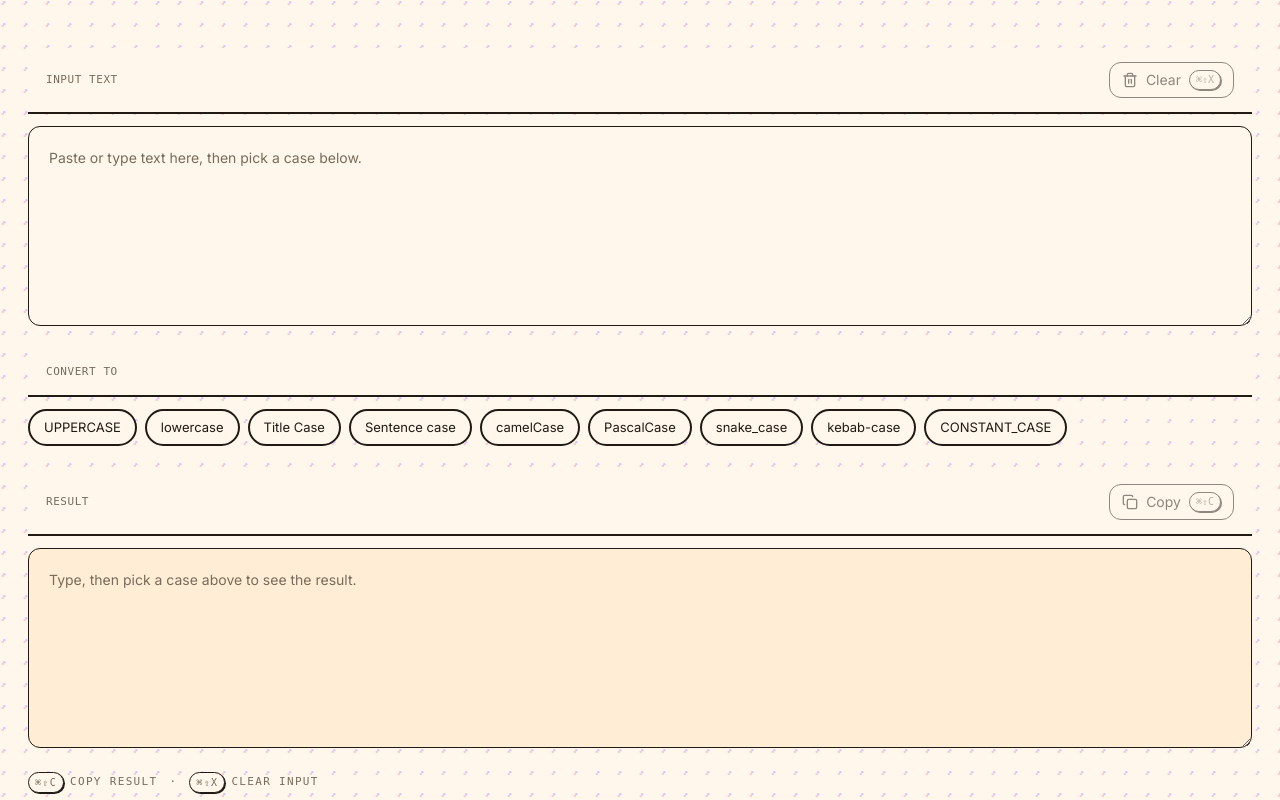
Test: CaseConverterRoute › UPPERCASE chip converts correctly
Type "hello world" into the text box with placeholder "Paste or type text here, then pick a case below." at (640, 226), box [28,126,1252,326]
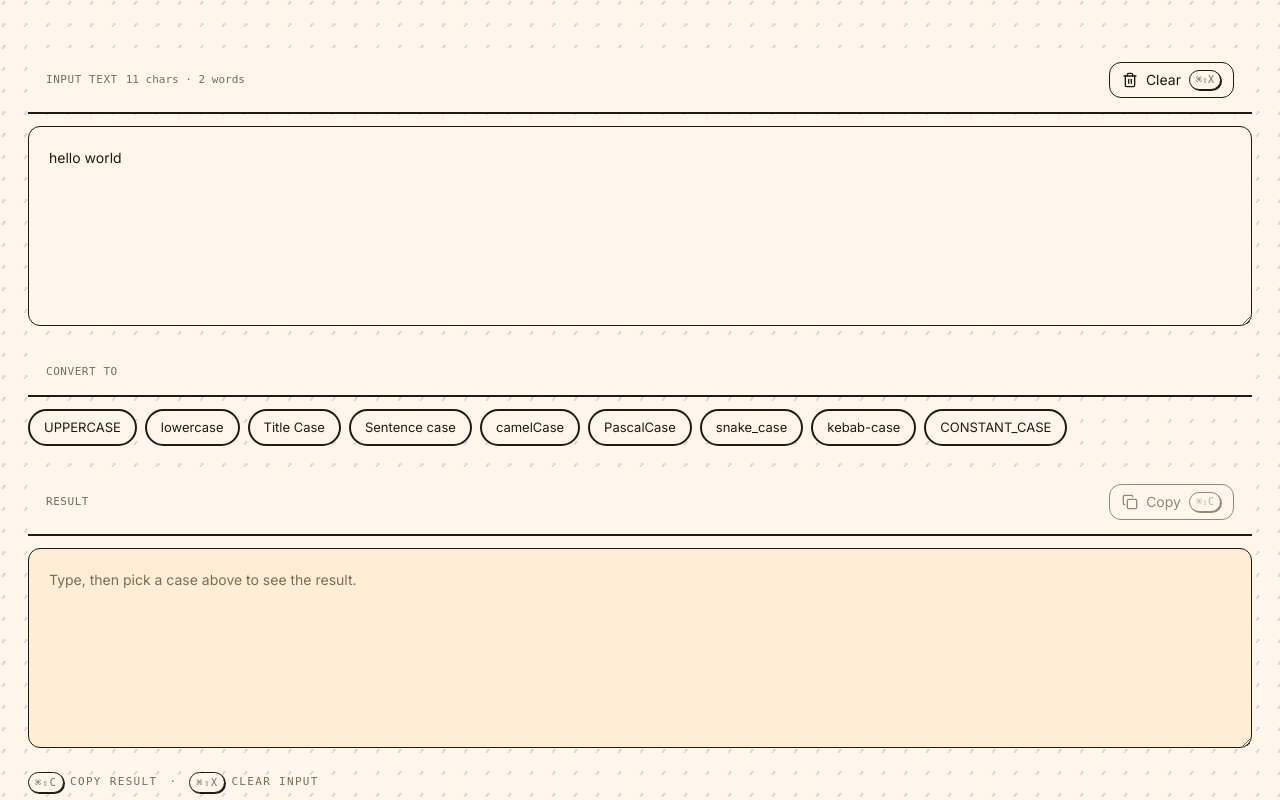
Click the button "UPPERCASE" at (82, 427), box [28,408,137,446]
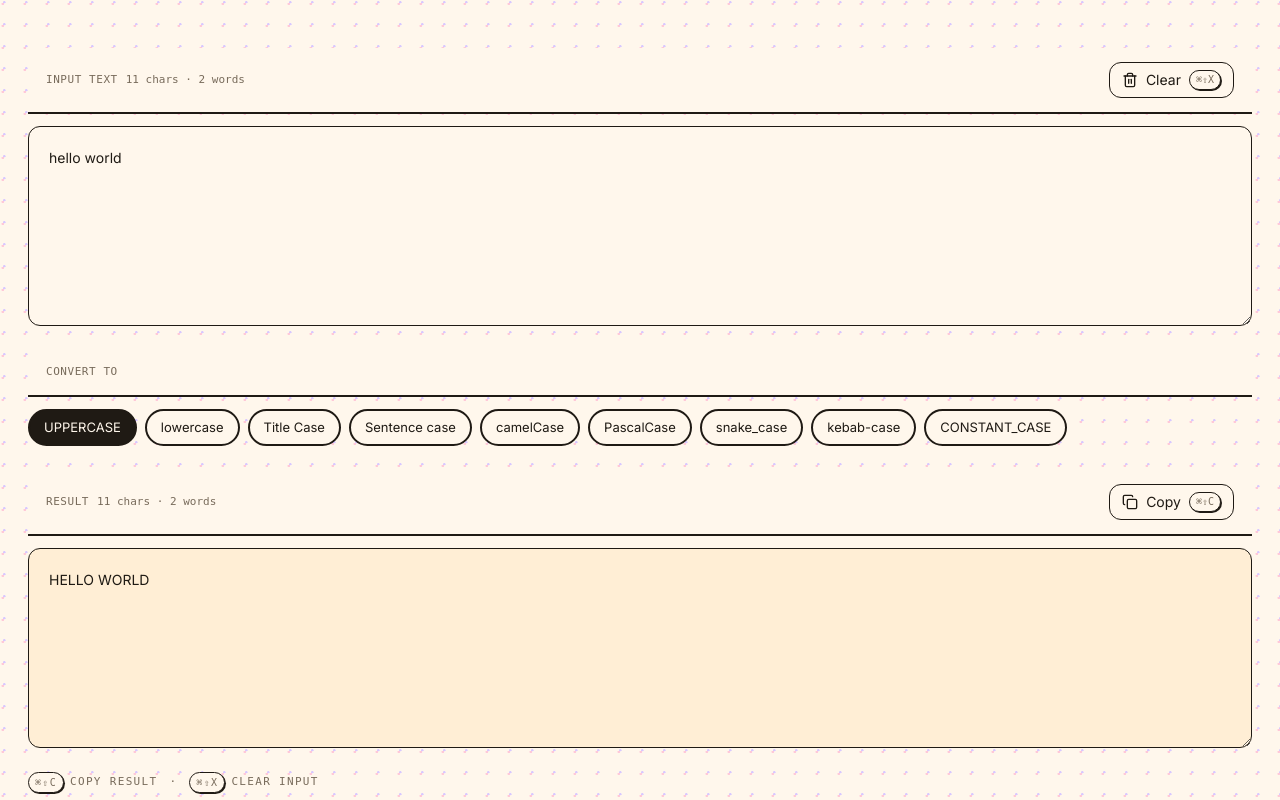
Now the text box with placeholder "Type on the left to see the result here." holds "HELLO WORLD", box [28,548,1252,748]
